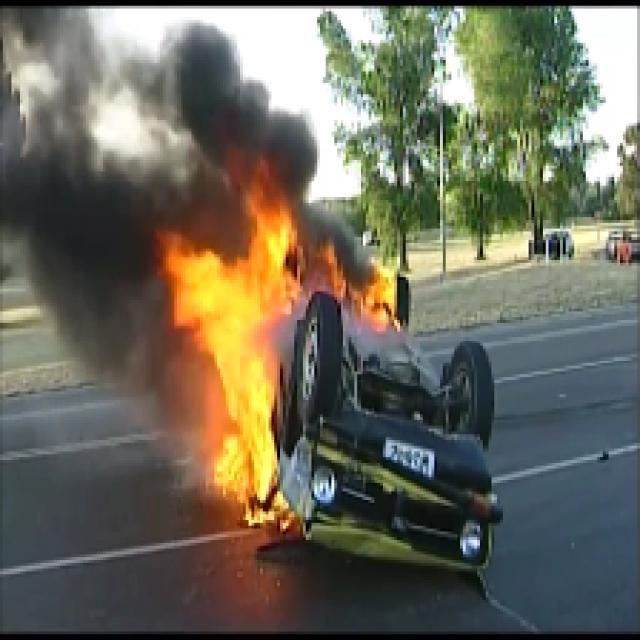Fire: (154, 200, 297, 534), (317, 248, 394, 328)
Smoke: (2, 3, 158, 400)
